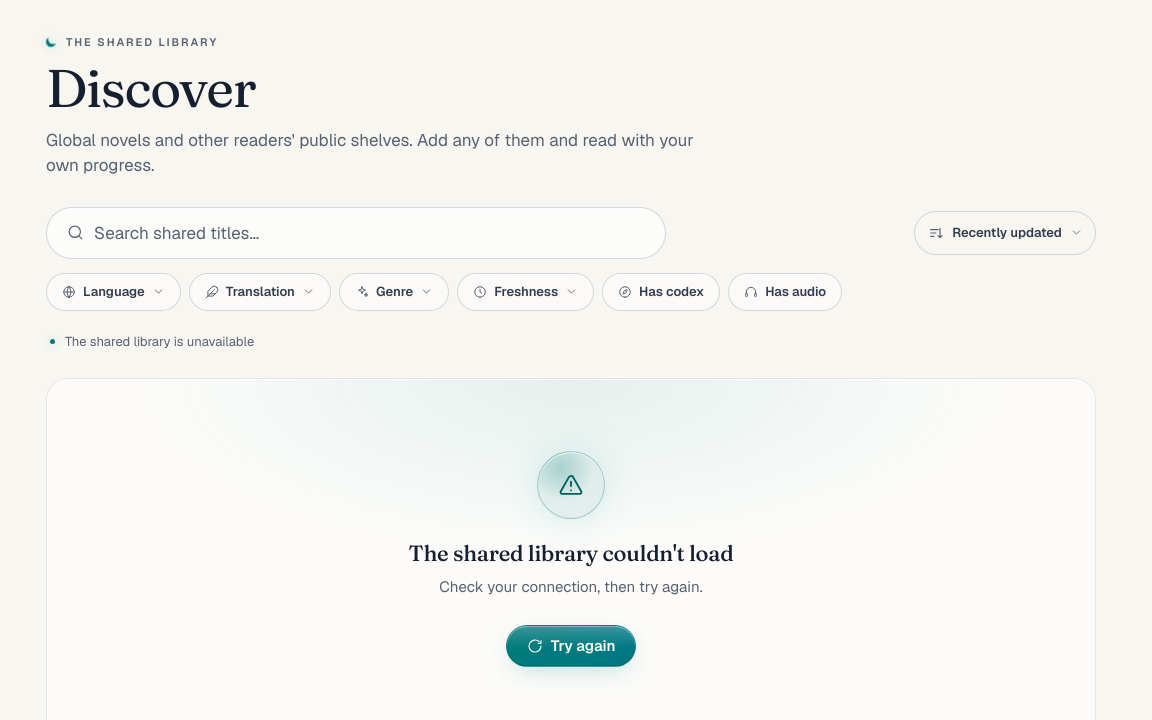
Test case: Discover › says so honestly when the shared library is unavailable, and recovers
Expected: the text "The shared library couldn't load" is shown, [409,539,734,567]
Click the button "Try again" at x=571, y=646, box [506,625,636,667]
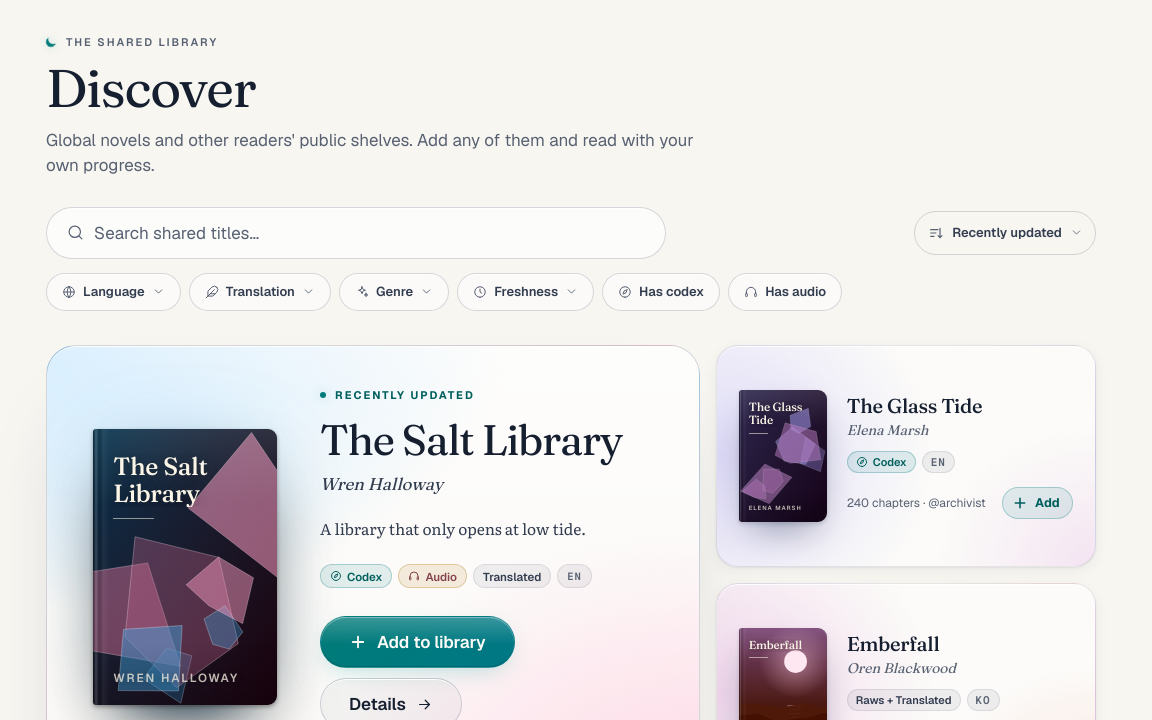
Result: the heading "The Salt Library" is shown at [320,418,622,461]
